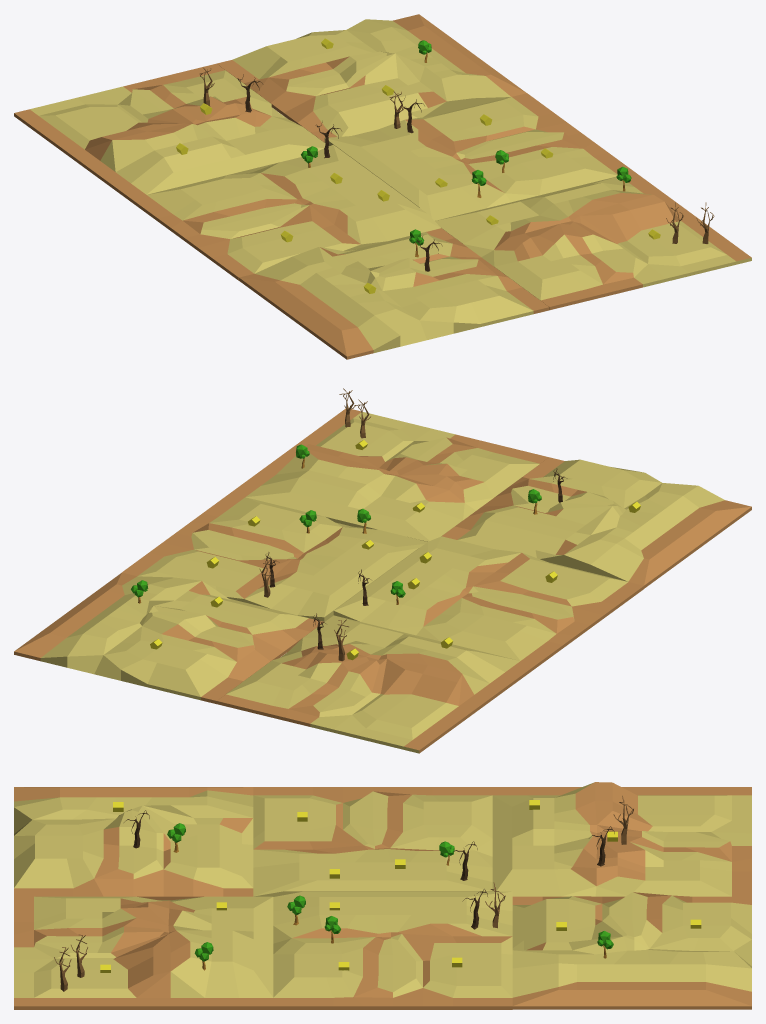
Rendered from FarmLand.fbx.
The picture shows the model from 3 angles, top to bottom: view 1: azimuth 30°, elevation 25°; view 2: azimuth 150°, elevation 25°; view 3: azimuth 270°, elevation 25°; orthographic projection. The views are drawn at different scales.
Parts seen in each view (by area): view 1: Cube.009; view 2: Cube.009; view 3: Cube.009.
Part boxes in pixels (x1,y1,x2,y2): Cube.009: (14,14,751,359); Cube.009: (14,408,751,753); Cube.009: (14,782,751,1009).
Size of the model in its own units: 26022 by 3647 by 37005.
